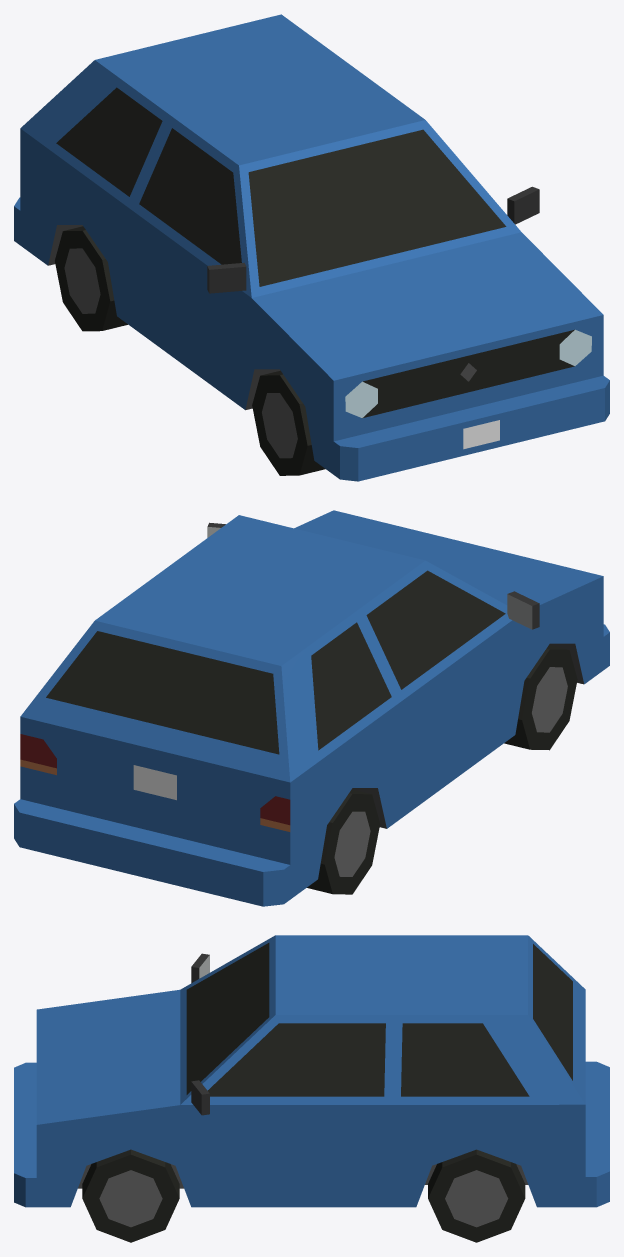
File: Veh_Coupe_02_Blue.glb
3 views of the same model, one above another, from view 1: azimuth 30°, elevation 25°; view 2: azimuth 150°, elevation 25°; view 3: azimuth 270°, elevation 25° (orthographic). The views are drawn at different scales.
Parts seen in each view (by area): view 1: Coupe_02_Blue, Wheel_RR, Wheel_FR; view 2: Coupe_02_Blue, Wheel_RR, Wheel_FR; view 3: Coupe_02_Blue, Wheel_FL, Wheel_RL.
Boxes of the visible parts, x1,y1,x2,y2 form: Coupe_02_Blue: [14, 14, 609, 481]; Wheel_RR: [55, 226, 127, 331]; Wheel_FR: [252, 370, 325, 475]; Coupe_02_Blue: [14, 510, 609, 906]; Wheel_RR: [307, 789, 380, 894]; Wheel_FR: [504, 645, 577, 750]; Coupe_02_Blue: [14, 935, 609, 1207]; Wheel_FL: [82, 1149, 179, 1242]; Wheel_RL: [428, 1149, 525, 1242].
Size of the model in its own units: 1.12 by 0.78 by 2.01.
Materials: 1 (1 with a texture image).
